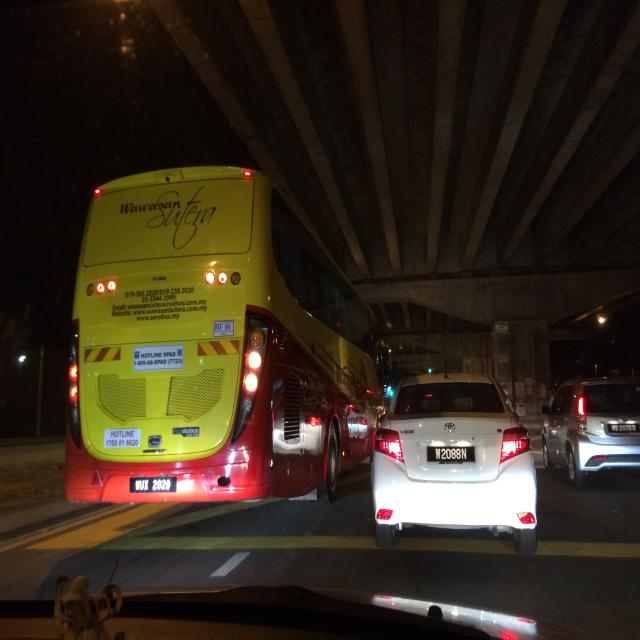Bus: (77, 136, 395, 527)
car: (0, 570, 556, 640), (379, 367, 532, 568), (542, 371, 640, 526)
